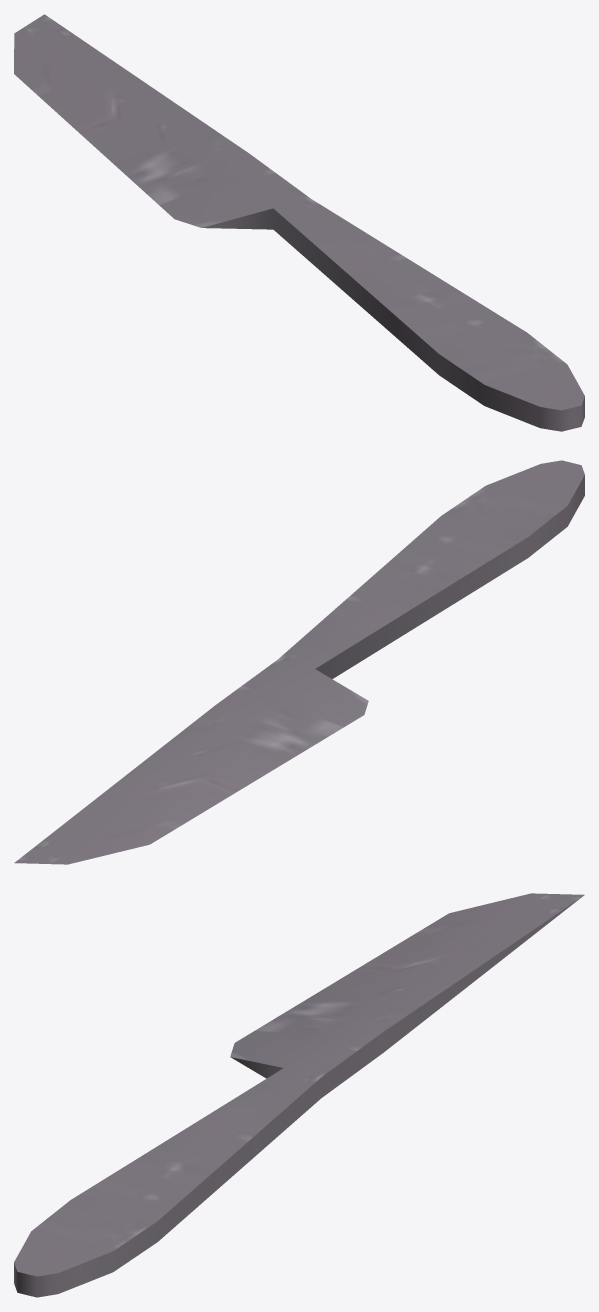
Rendered from Table_Knife.glb.
3 views of the same model, one above another, from view 1: azimuth 30°, elevation 25°; view 2: azimuth 150°, elevation 25°; view 3: azimuth 330°, elevation 25° (orthographic).
Parts seen in each view (by area): view 1: Table_Knife; view 2: Table_Knife; view 3: Table_Knife.
Part boxes in pixels (box(x1,y1,x2,y2)): Table_Knife: box(14, 14, 584, 431); Table_Knife: box(14, 460, 584, 864); Table_Knife: box(14, 893, 584, 1297).
Bounding box in the file's own units: 0.0417 × 0.00616 × 0.2866.
Materials: 1 (1 with a texture image).
